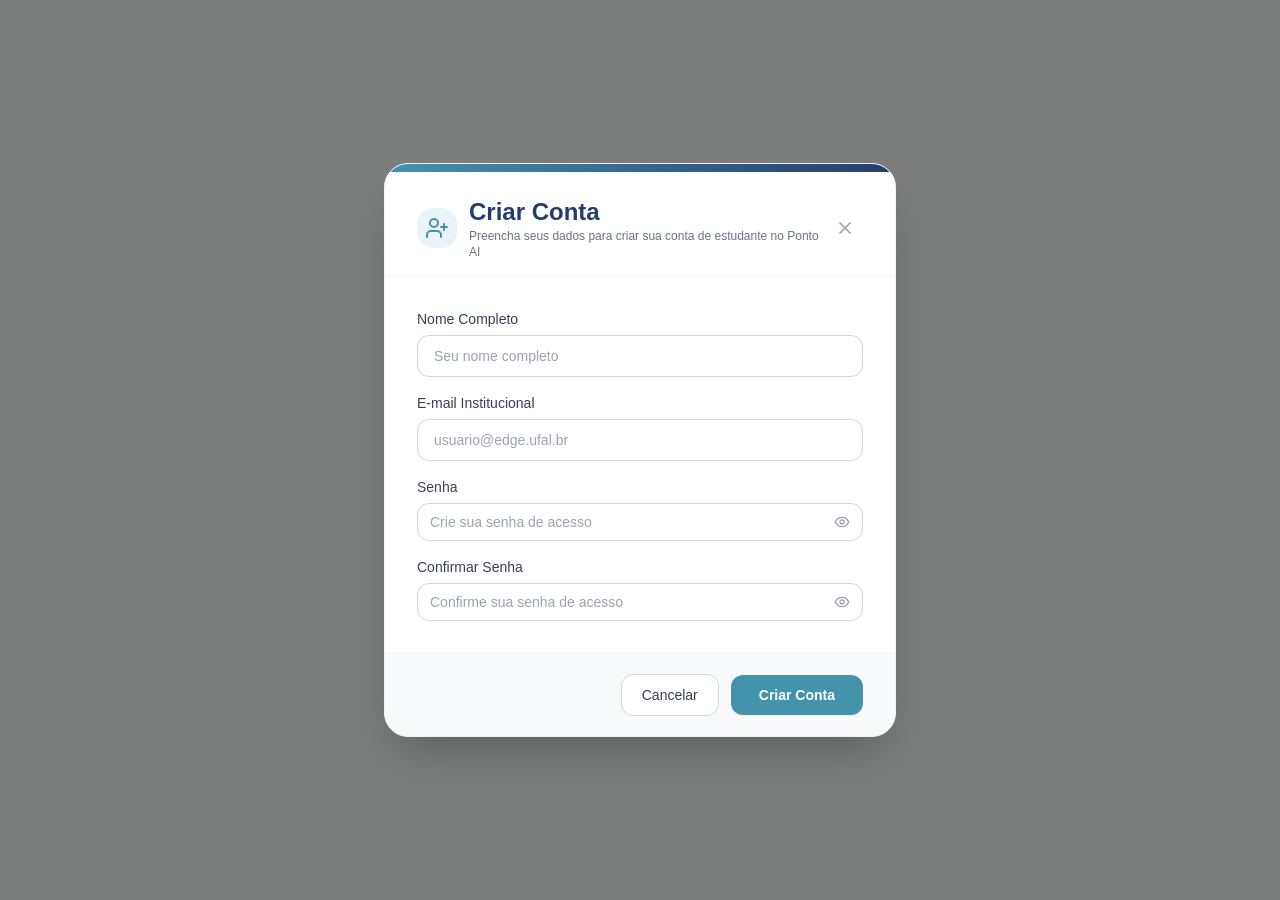
CriarContaModal Component › valida que o e-mail deve pertencer ao domínio @edge.ufal.br
Type "Aluno Teste" into the field with placeholder "Seu nome completo". click: (640, 356)
box: [417, 335, 863, 377]
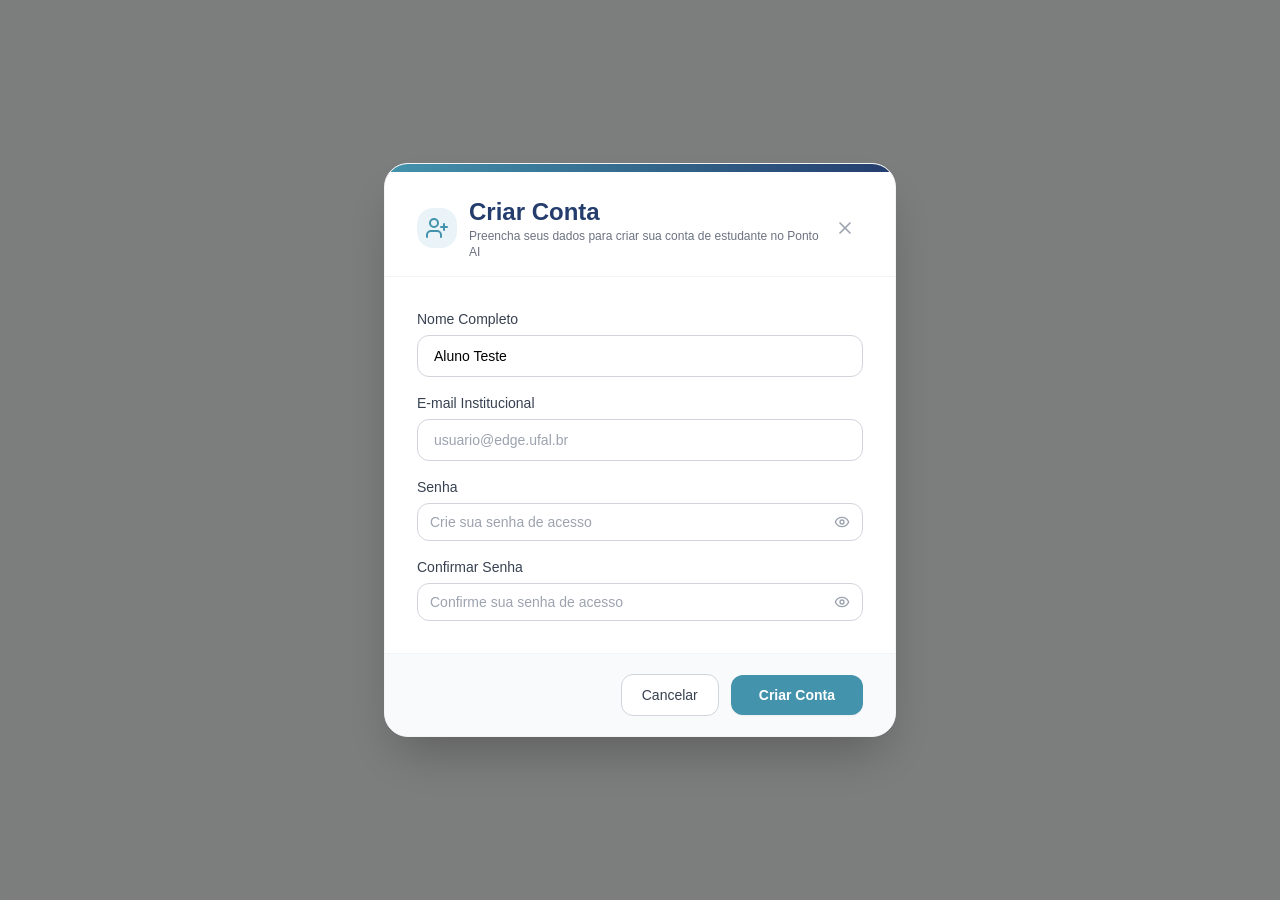
Type "aluno@gmail.com" into the field with placeholder "usuario@edge.ufal.br". click: (640, 440)
box: [417, 419, 863, 461]
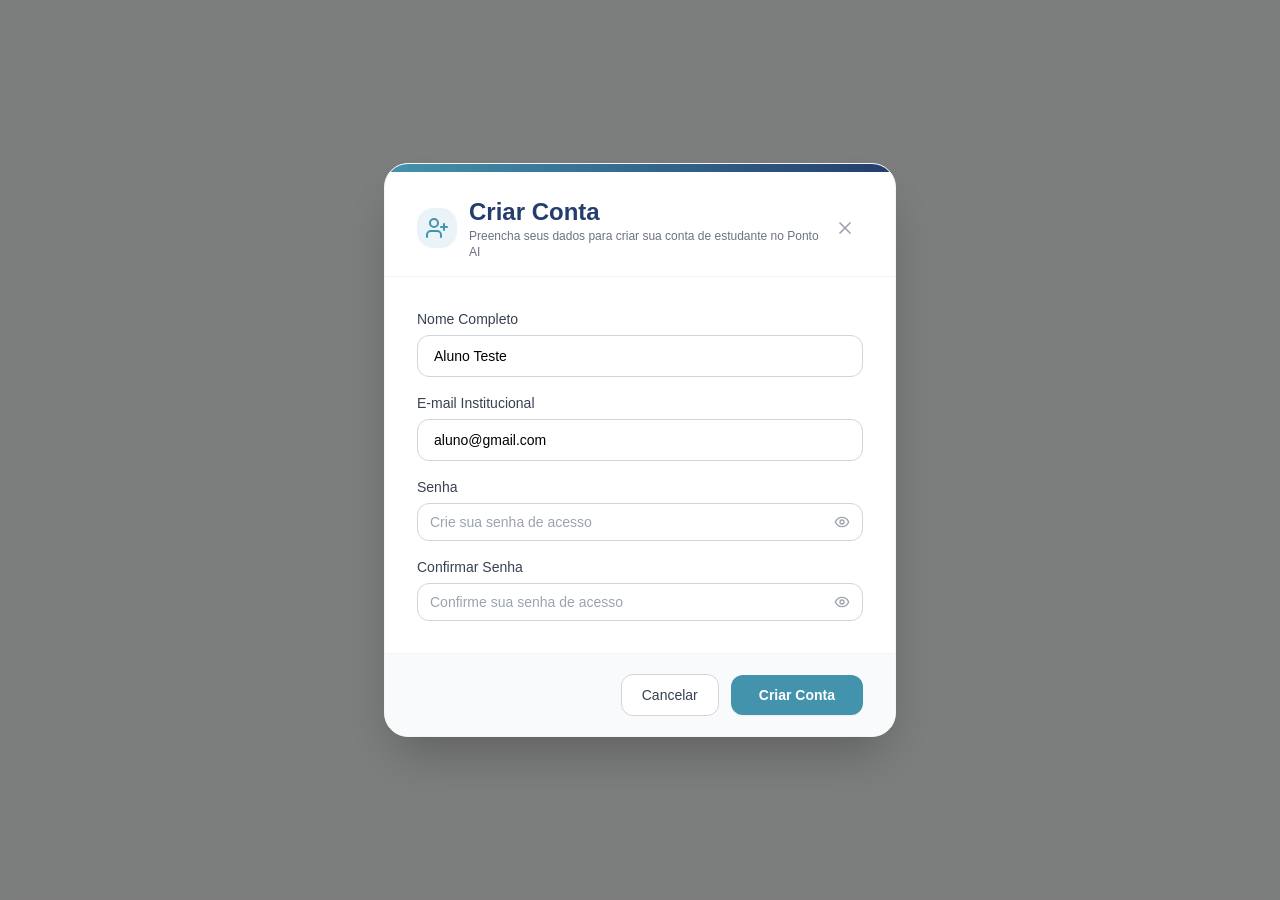
Type "Password123!" into the password field with placeholder "Crie sua senha de acesso". click: (628, 522)
box: [430, 512, 826, 532]
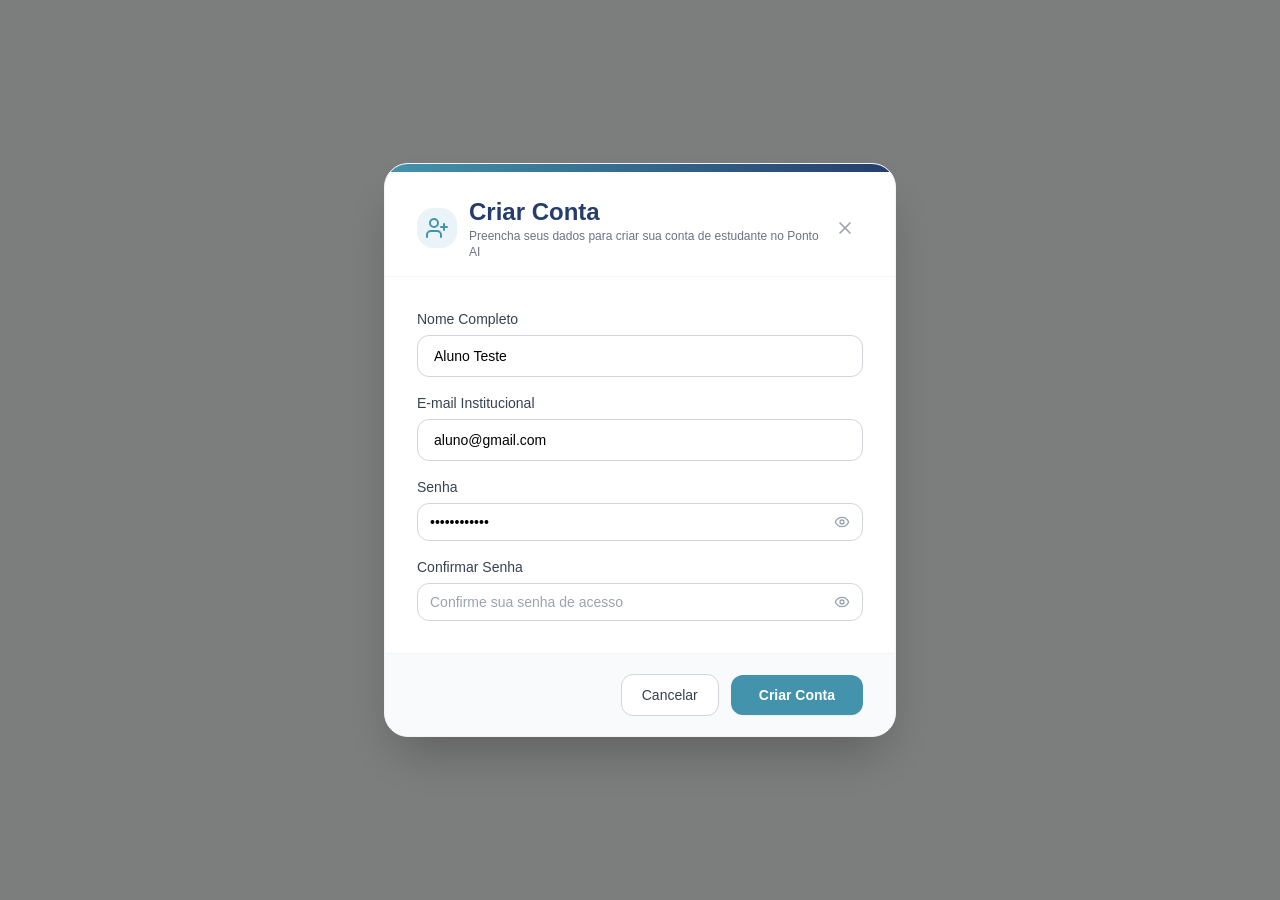
Type "Password123!" into the password field with placeholder "Confirme sua senha de acesso". click: (628, 602)
box: [430, 592, 826, 612]
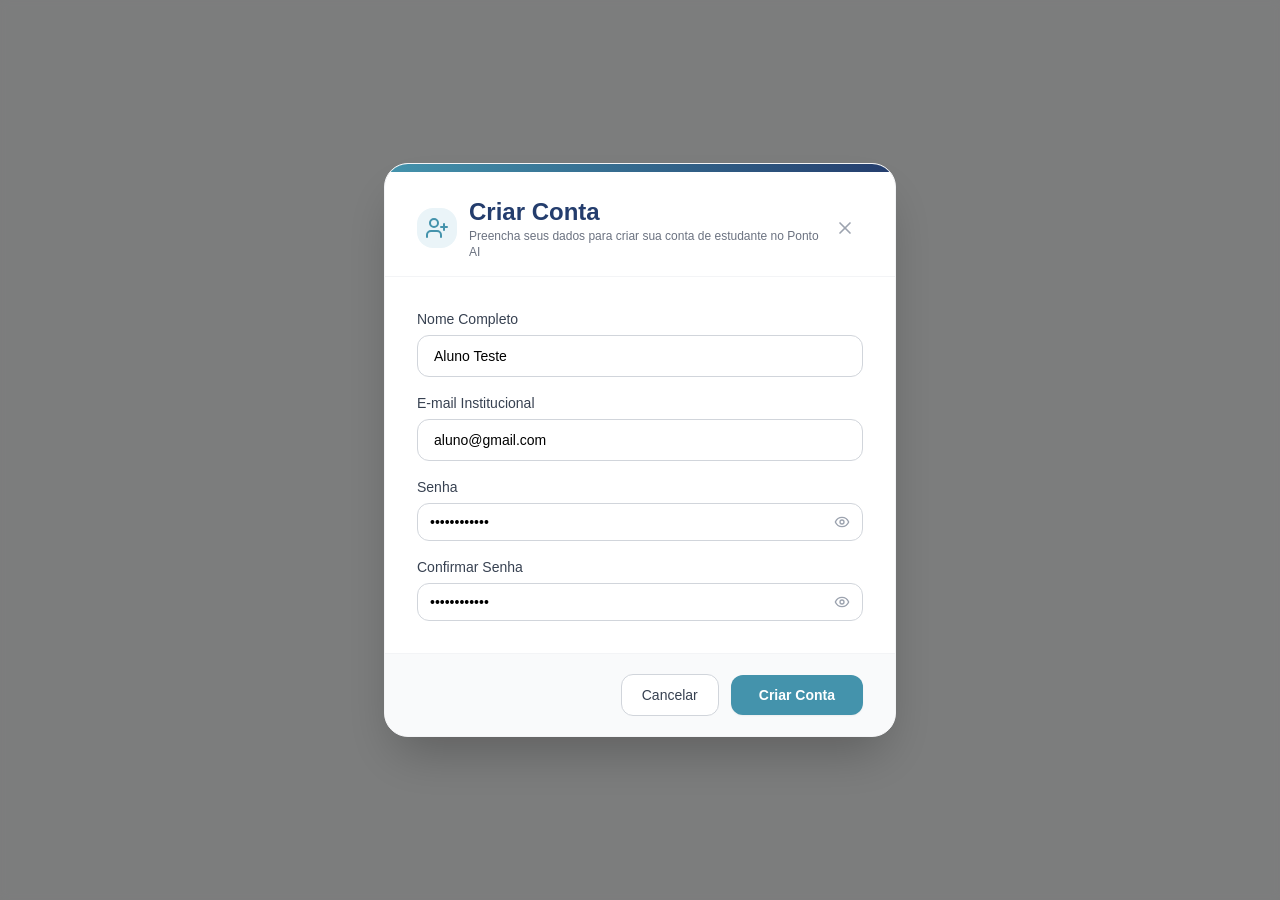
Click the button "Criar Conta". click: (797, 695)
box: [731, 675, 863, 715]
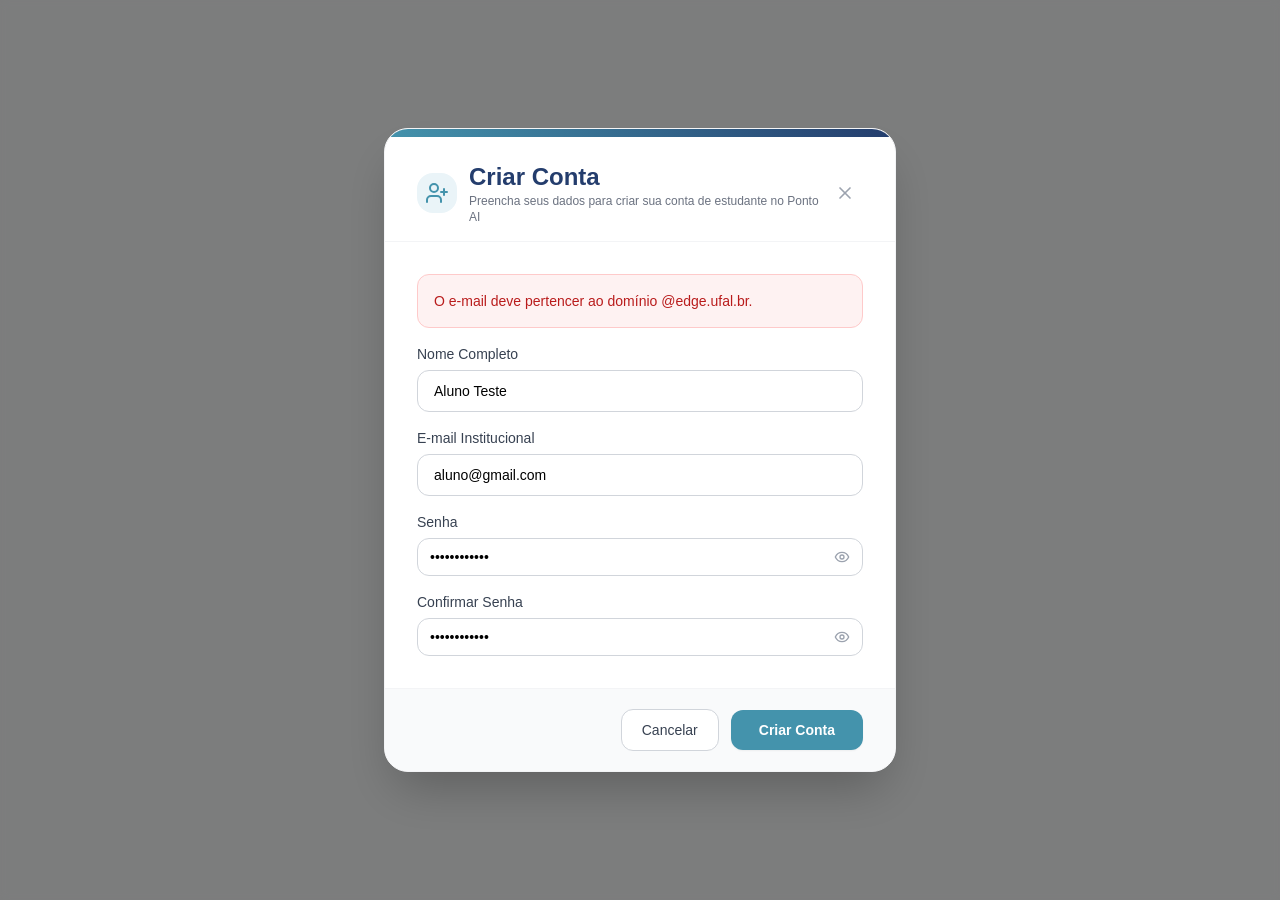
expect the text "O e-mail deve pertencer ao domínio @edge.ufal.br." is shown: met, box [417, 274, 863, 328]
